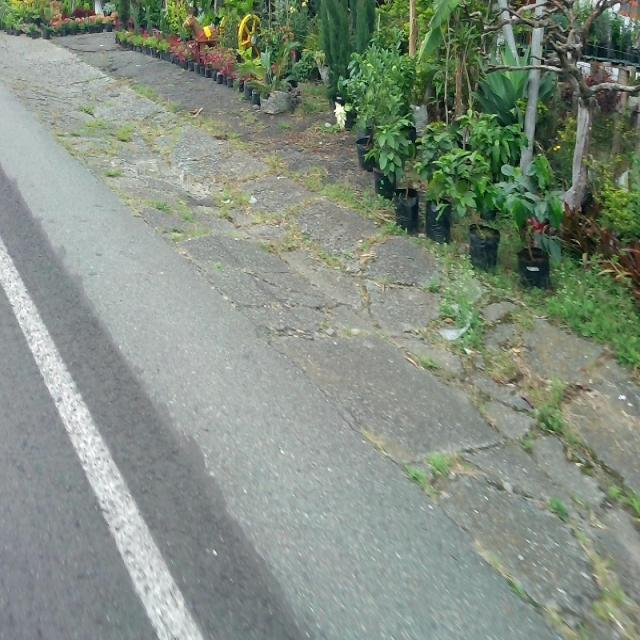DITCH: (1, 25, 638, 638)
